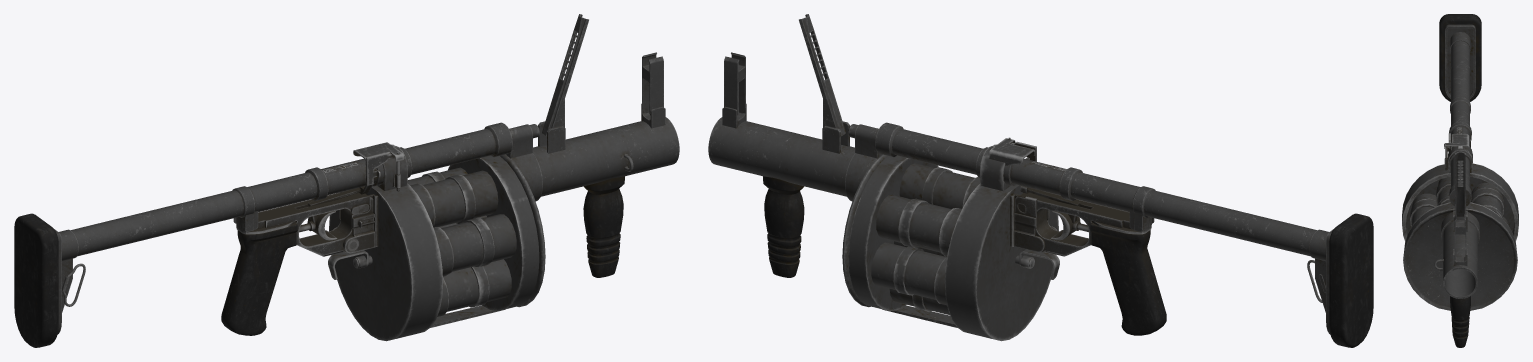
File: One (11).fbx
The picture shows the model from 3 angles, left to right: view 1: azimuth 30°, elevation 25°; view 2: azimuth 150°, elevation 25°; view 3: azimuth 270°, elevation 25°; orthographic projection. The views are drawn at different scales.
Visible parts, largest first — view 1: RG6; view 2: RG6; view 3: RG6.
Boxes of the visible parts, left/top/right/bottom form: RG6: left=14, top=14, right=679, bottom=347; RG6: left=708, top=14, right=1373, bottom=347; RG6: left=1402, top=14, right=1518, bottom=347.
Bounding box in the file's own units: 462 × 188 × 104.
